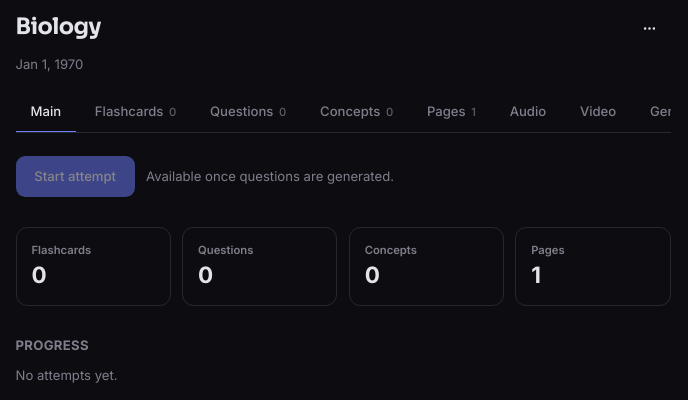
PrepPage concepts › shows each page's OCR title, language and cost
Click the tab "Pages1". click: (451, 113)
box: 412,92 -> 491,133
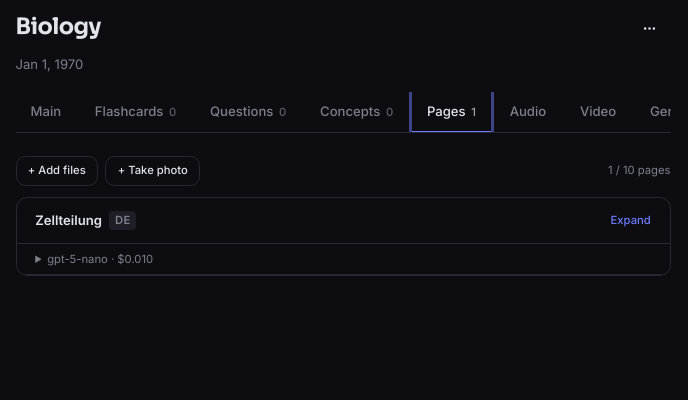
expect the text "Zellteilung" is shown: met, box 35,211 -> 102,230
expect the text "de" is shown: met, box 110,211 -> 136,230
expect the heading "gpt-5-nano · $0.010" is shown: met, box 47,252 -> 153,266
